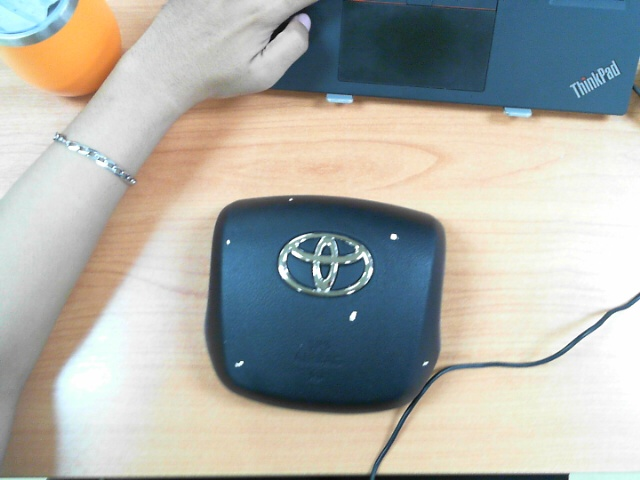Airbag: (349, 311, 357, 322), (235, 361, 244, 368), (390, 233, 398, 240), (422, 361, 429, 367), (226, 240, 231, 246), (288, 197, 294, 202)
